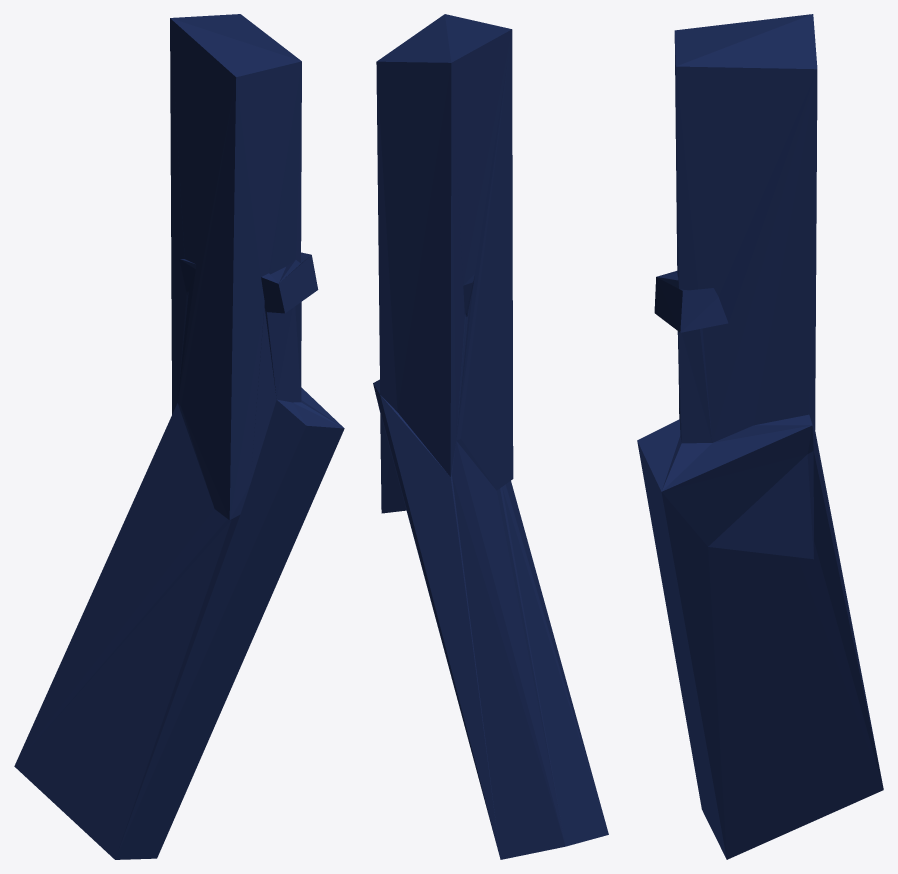
The picture shows the model from 3 angles, left to right: view 1: azimuth 30°, elevation 25°; view 2: azimuth 150°, elevation 25°; view 3: azimuth 270°, elevation 25°; orthographic projection. The views are drawn at different scales.
Parts seen in each view (by area): view 1: 734_Cube.2946; view 2: 734_Cube.2946; view 3: 734_Cube.2946.
Part boxes in pixels (bbox=[...]): 734_Cube.2946: bbox=[14, 14, 344, 859]; 734_Cube.2946: bbox=[373, 14, 608, 859]; 734_Cube.2946: bbox=[637, 14, 883, 859].
Bounding box in the file's own units: 6.74 × 21.44 × 5.49.
